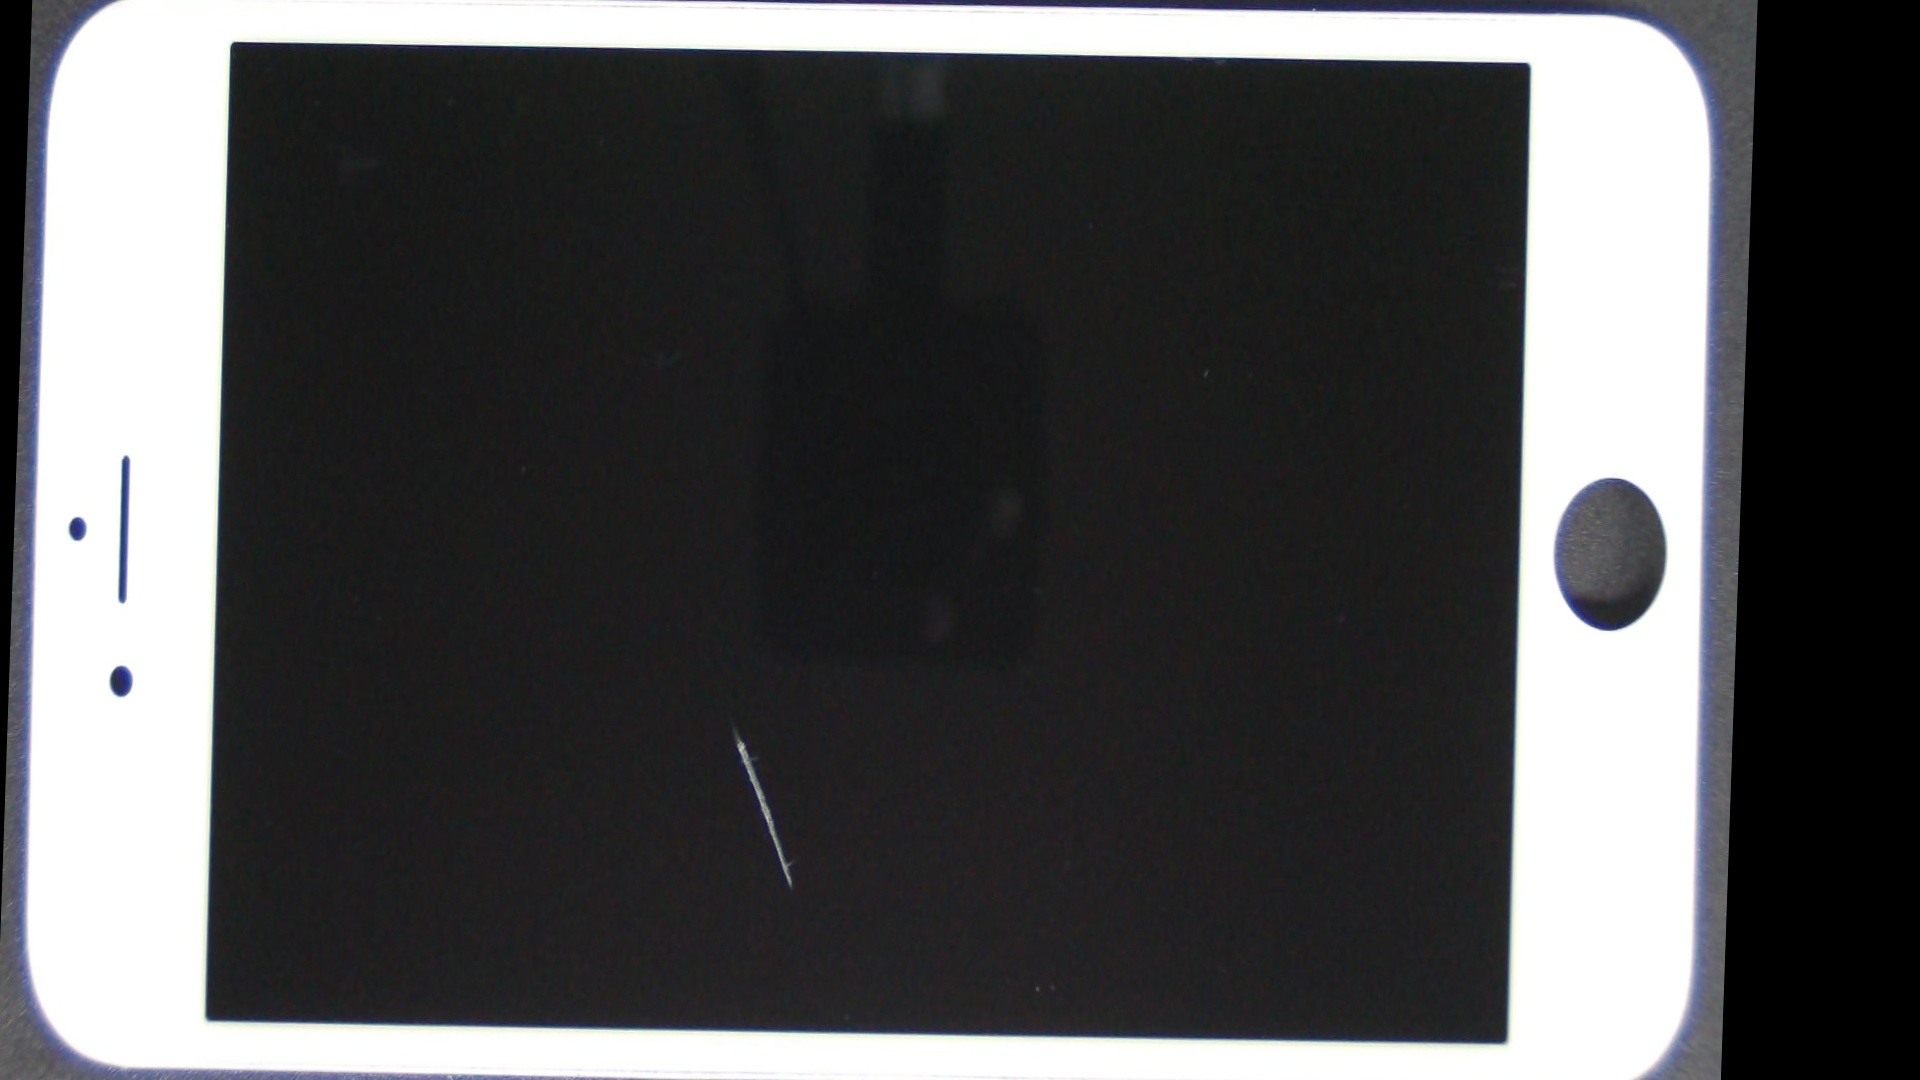oil: (355, 284, 1106, 1080)
